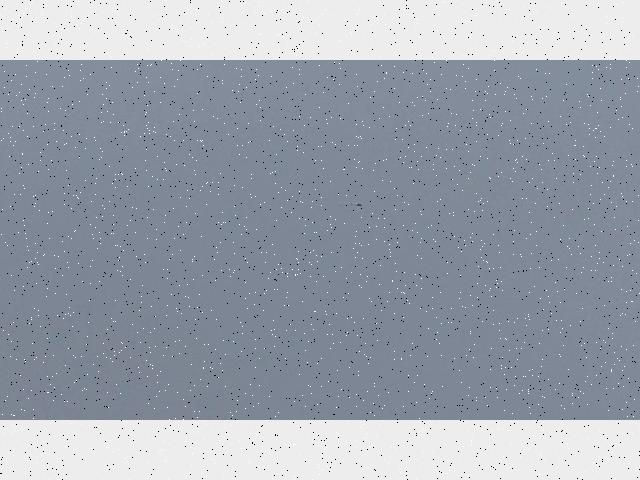Anti-Drone: (336, 199, 366, 209)
